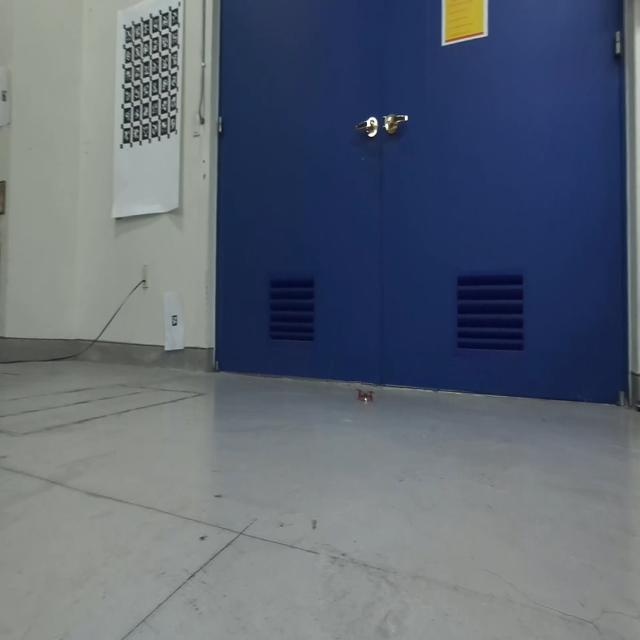crazyflie: (354, 382, 377, 408)
